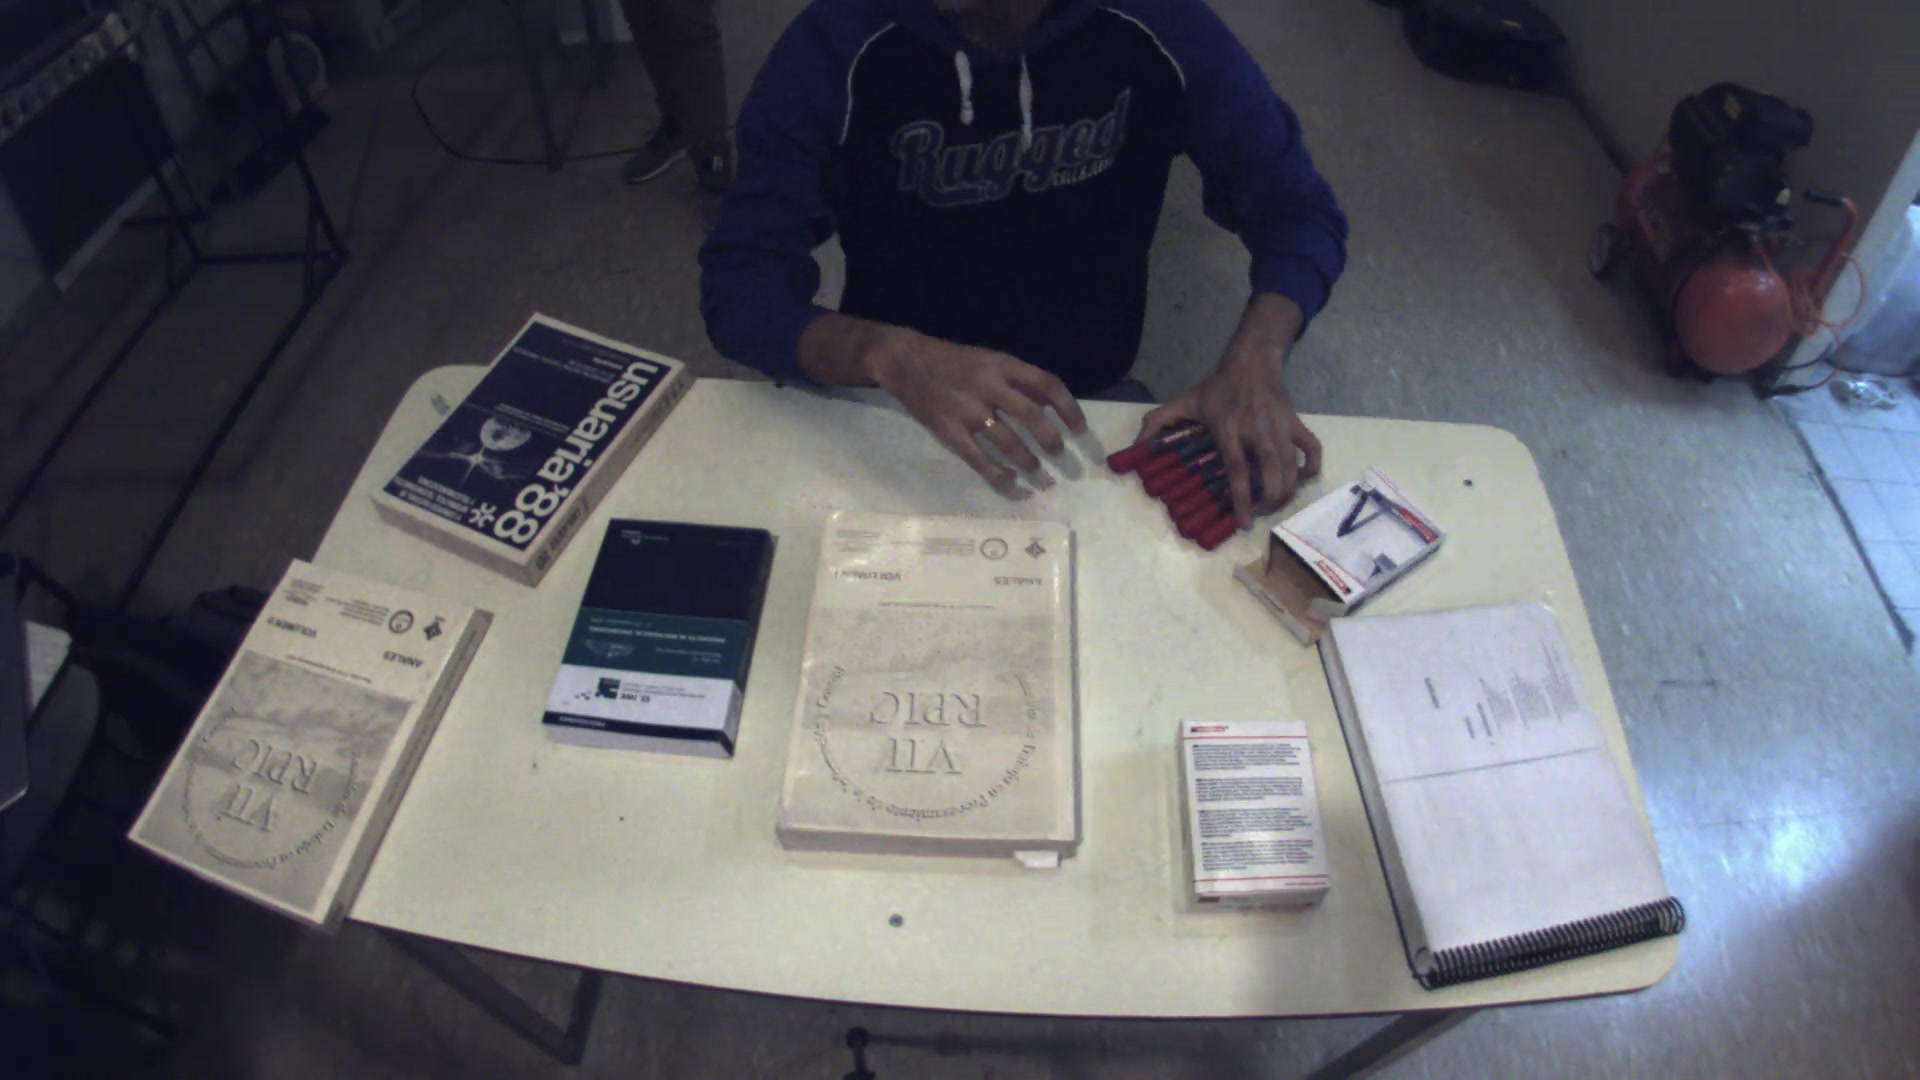hand: (851, 313, 1116, 497), (1122, 344, 1333, 543)
